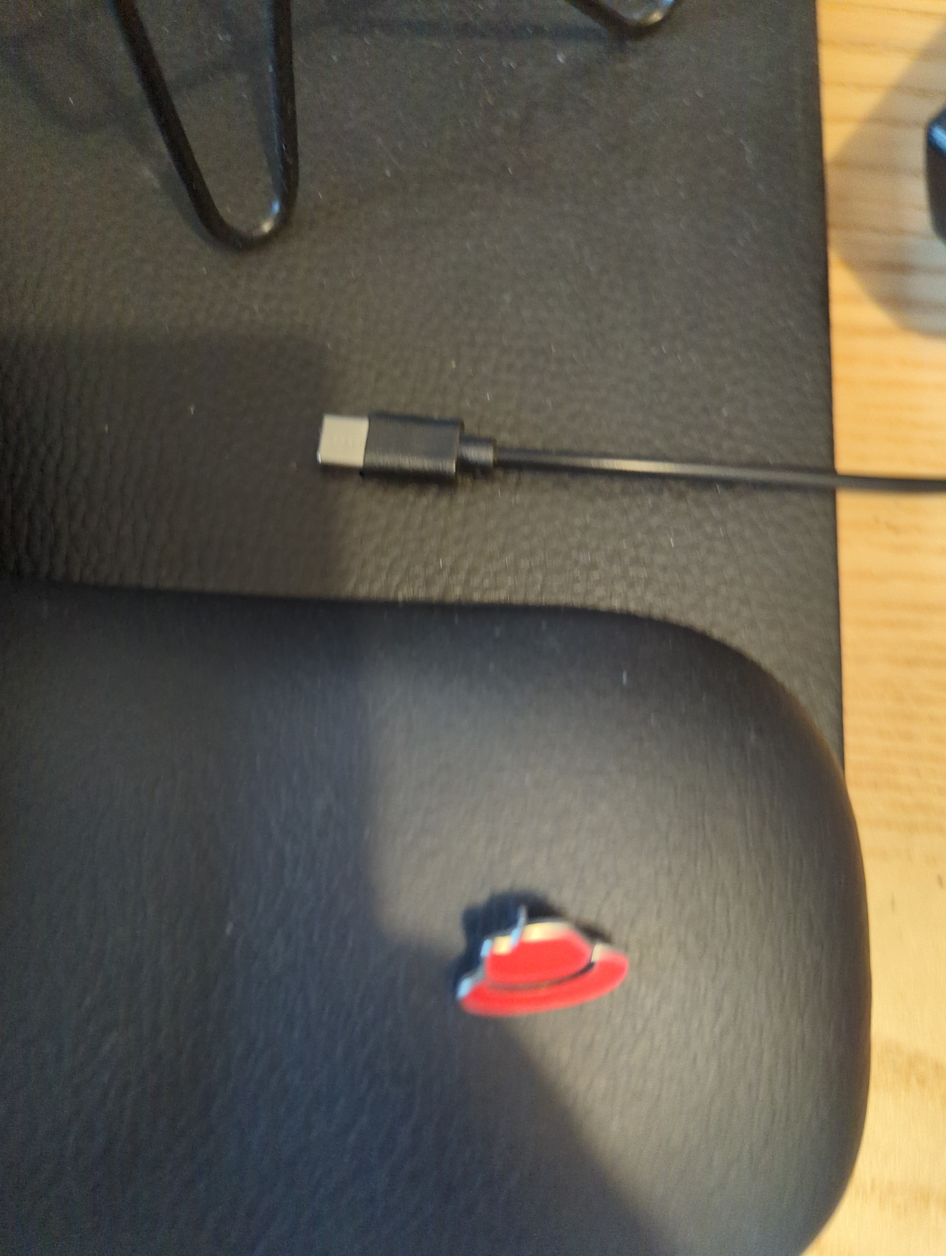Red-Hat: (397, 813, 714, 1092)
